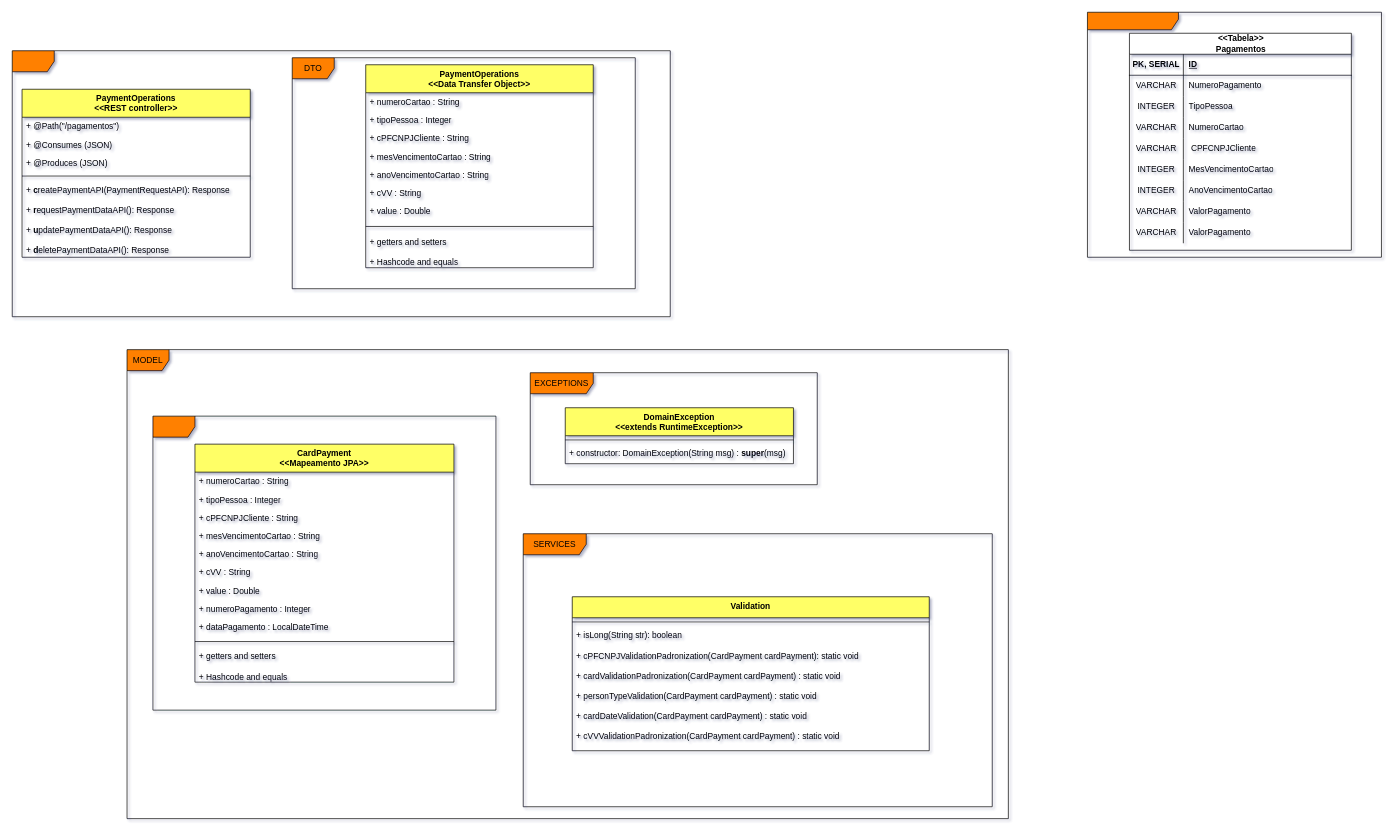
This 1398x835 diagram has some shape labels left out. Each missing label, with the centre of its shape:
"Banco de Dados" belongs at point (1234, 134).
"ENTITIES" belongs at point (324, 562).
"REST" belongs at point (341, 183).
